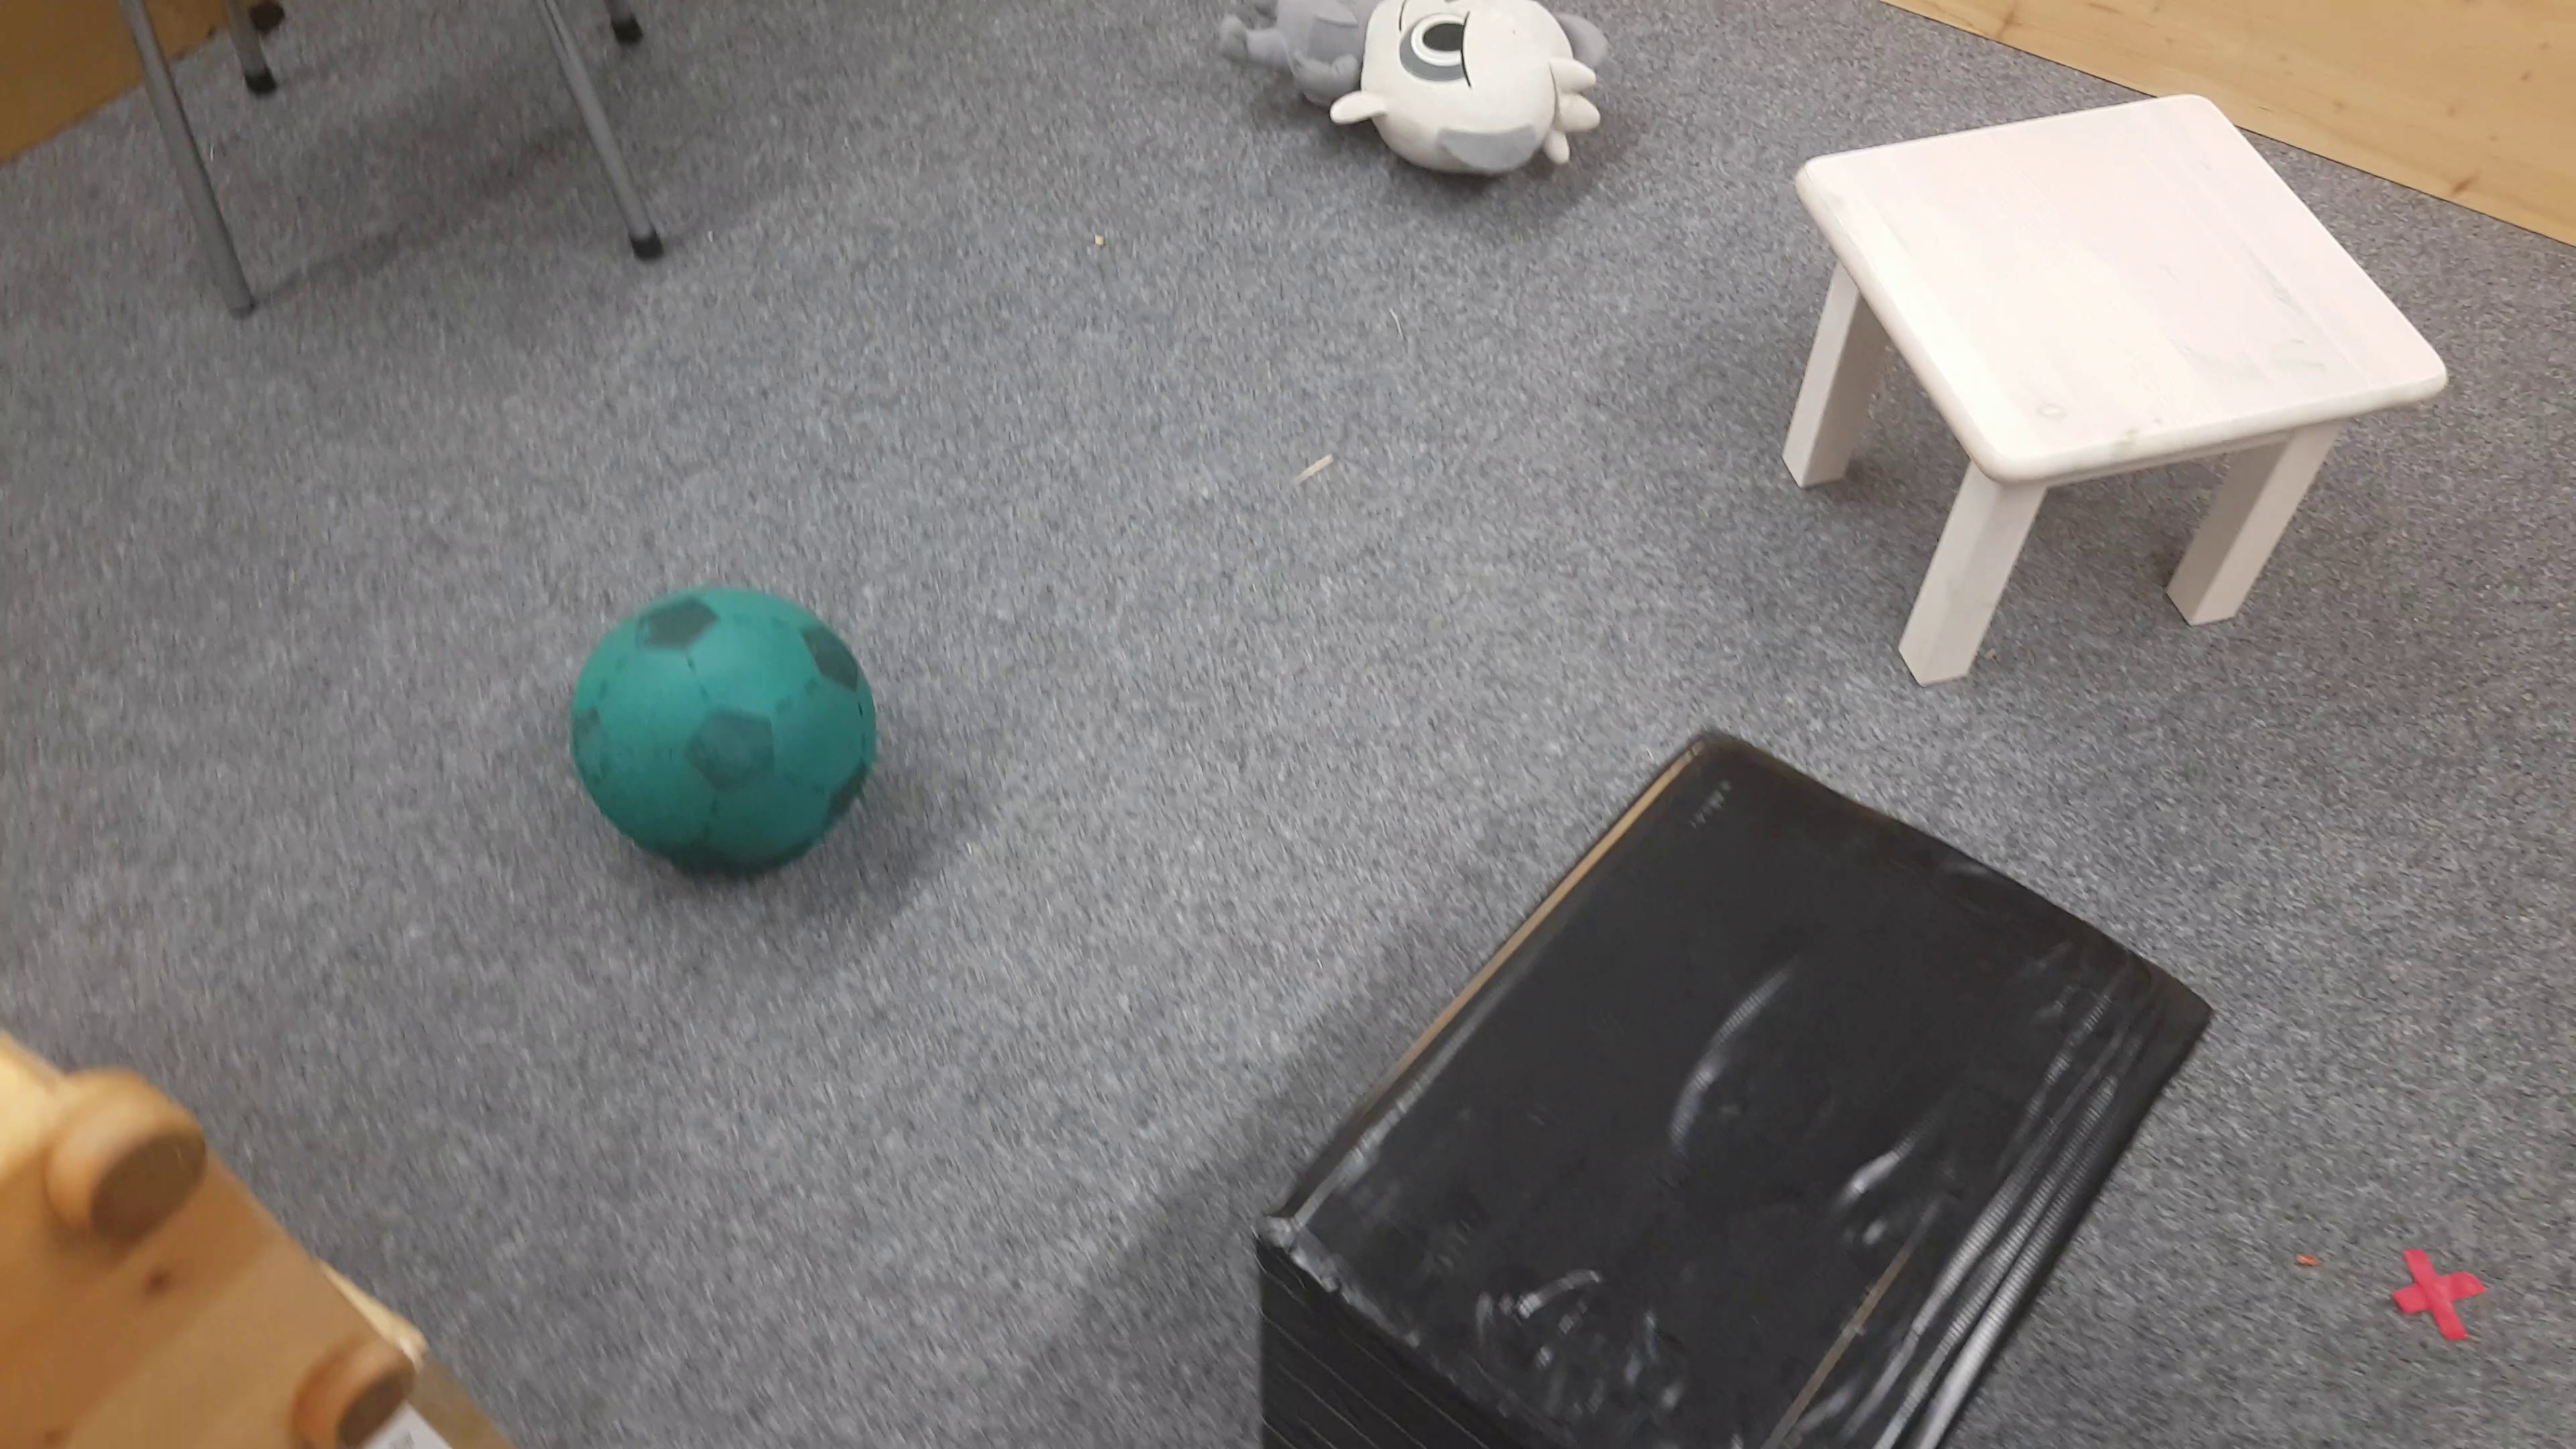grasp: (1215, 0, 1610, 191)
kick: (571, 584, 879, 867)
push: (1249, 727, 2213, 1449)
